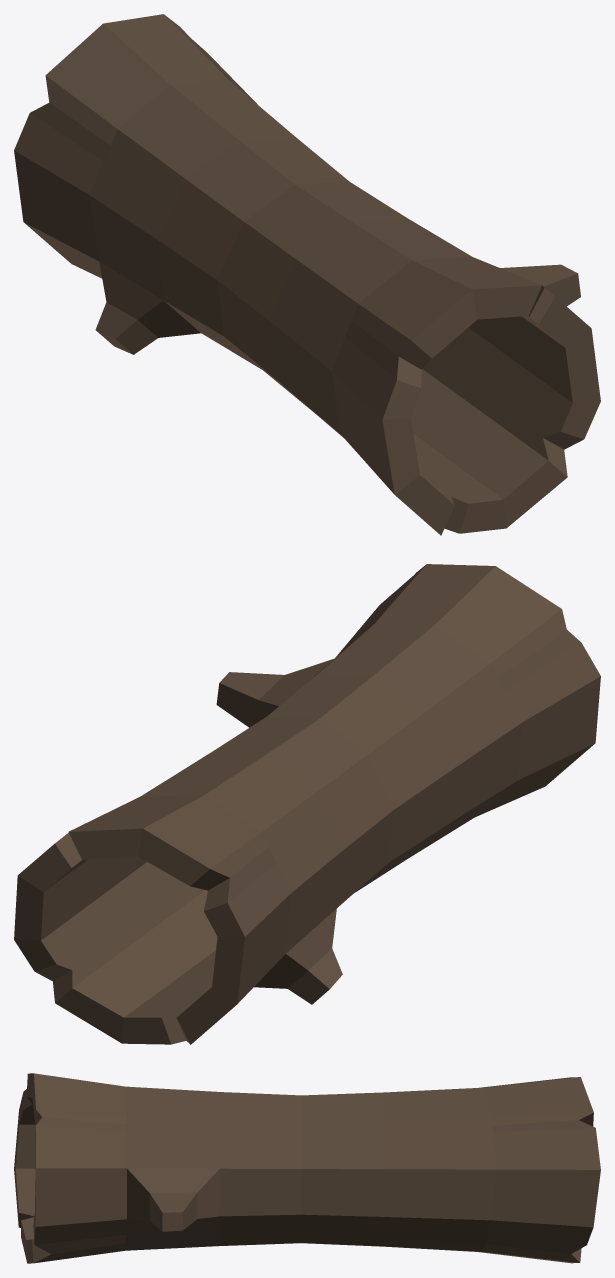
The model's file is LighterLog.fbx.
3 views of the same model, one above another, from view 1: azimuth 30°, elevation 25°; view 2: azimuth 150°, elevation 25°; view 3: azimuth 270°, elevation 25° (orthographic). The views are drawn at different scales.
Parts seen in each view (by area): view 1: Cylinder.005; view 2: Cylinder.005; view 3: Cylinder.005.
Boxes of the visible parts, bbox=[...] form: Cylinder.005: bbox=[14, 14, 600, 535]; Cylinder.005: bbox=[14, 564, 600, 1044]; Cylinder.005: bbox=[14, 1073, 600, 1263].
Size of the model in its own units: 49.82 by 38.95 by 115.
